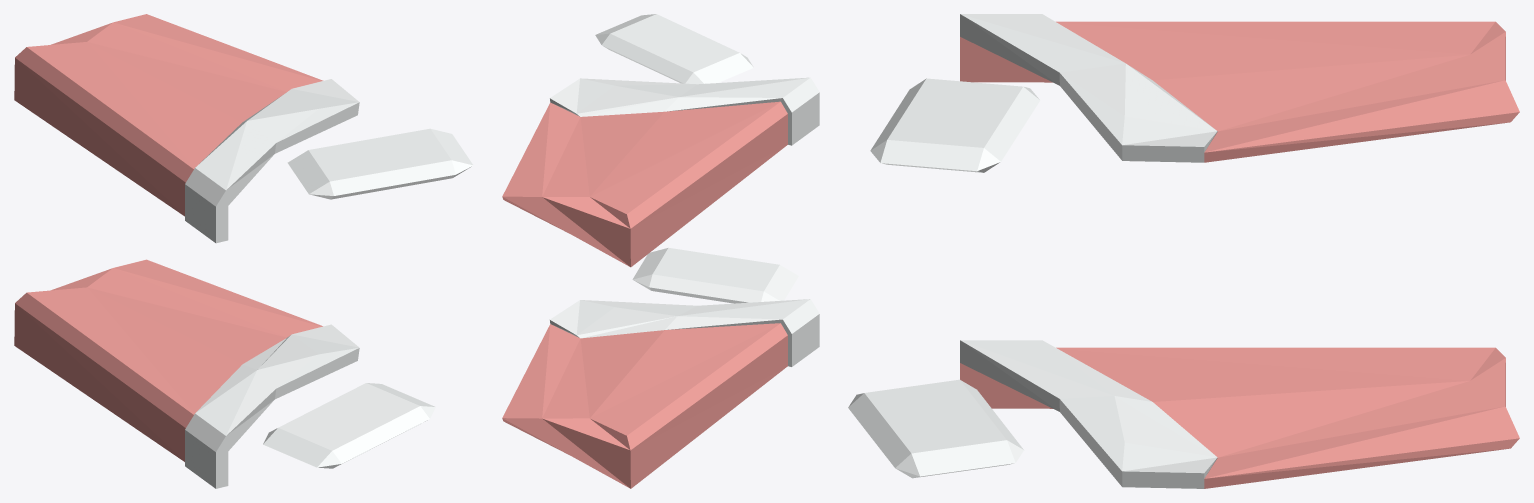
Rendered from untidyBed.fbx.
The picture shows the model from 3 angles, left to right: view 1: azimuth 30°, elevation 25°; view 2: azimuth 150°, elevation 25°; view 3: azimuth 270°, elevation 25°; orthographic projection. The views are drawn at different scales.
Visible parts, largest first — view 1: coverTop, coverBottom, pillowTop, pillowBottom; view 2: coverTop, coverBottom, pillowBottom, pillowTop; view 3: coverTop, coverBottom, pillowBottom, pillowTop.
Boxes of the visible parts, left/top/right/bottom form: coverTop: left=14, top=14, right=359, bottom=243; coverBottom: left=14, top=259, right=359, bottom=488; pillowTop: left=287, top=128, right=473, bottom=199; pillowBottom: left=263, top=383, right=435, bottom=468; coverTop: left=502, top=77, right=819, bottom=267; coverBottom: left=502, top=299, right=819, bottom=488; pillowBottom: left=632, top=247, right=798, bottom=303; pillowTop: left=595, top=14, right=753, bottom=84; coverTop: left=960, top=14, right=1519, bottom=162; coverBottom: left=960, top=340, right=1519, bottom=488; pillowBottom: left=848, top=379, right=1023, bottom=478; pillowTop: left=870, top=78, right=1040, bottom=172.
Size of the model in its own units: 55.36 by 67.09 by 99.94.
